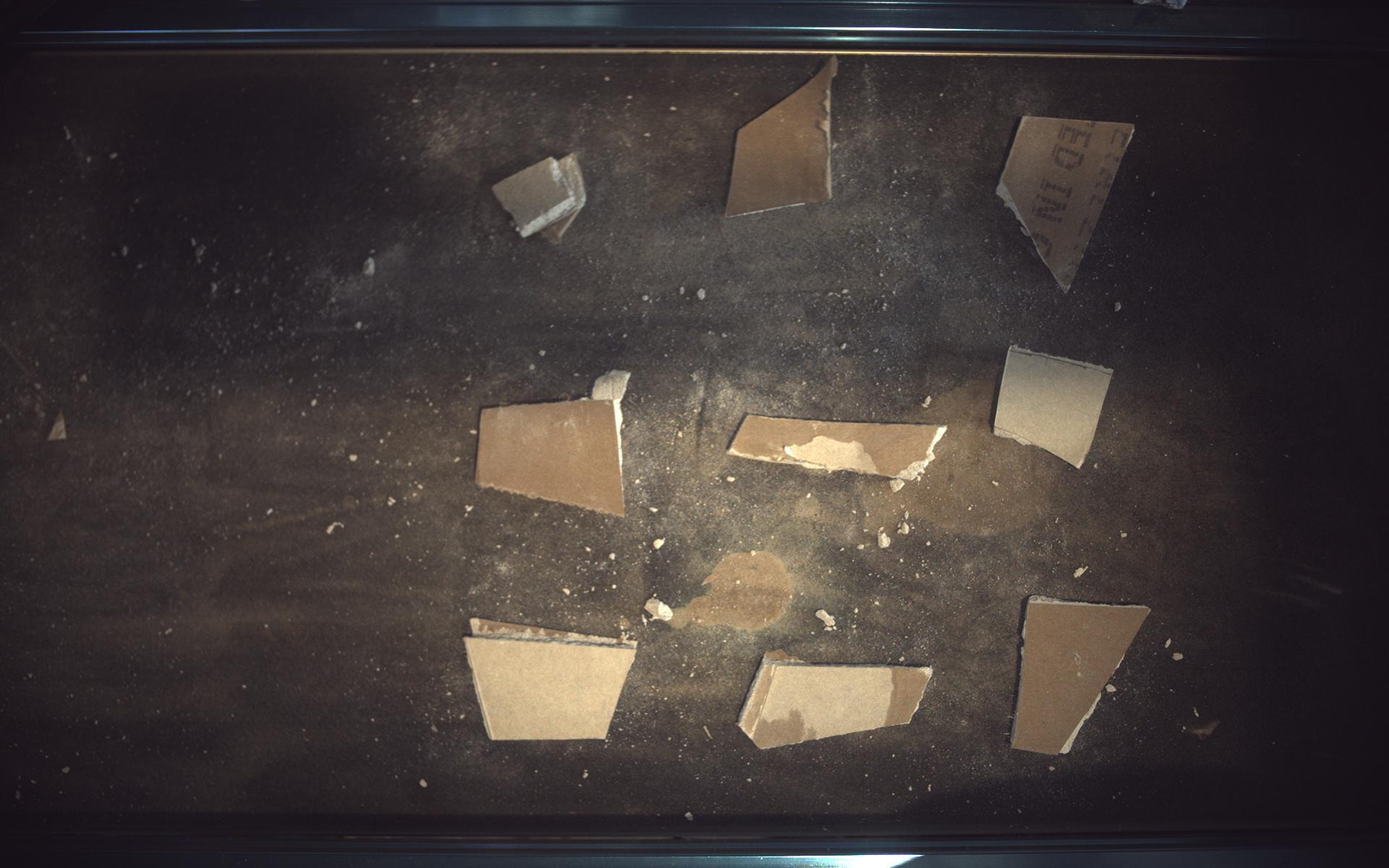gypsum_board: (998, 115, 1137, 292), (475, 370, 631, 517), (1013, 596, 1152, 757), (465, 619, 638, 741), (740, 651, 934, 750), (726, 55, 839, 216), (729, 415, 948, 492), (996, 345, 1116, 468), (493, 152, 587, 243)
